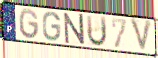7: (111, 17, 128, 50)
G: (18, 8, 40, 41), (42, 11, 62, 43)
N: (63, 12, 86, 46)
U: (85, 14, 108, 48)
V: (129, 18, 154, 55)
